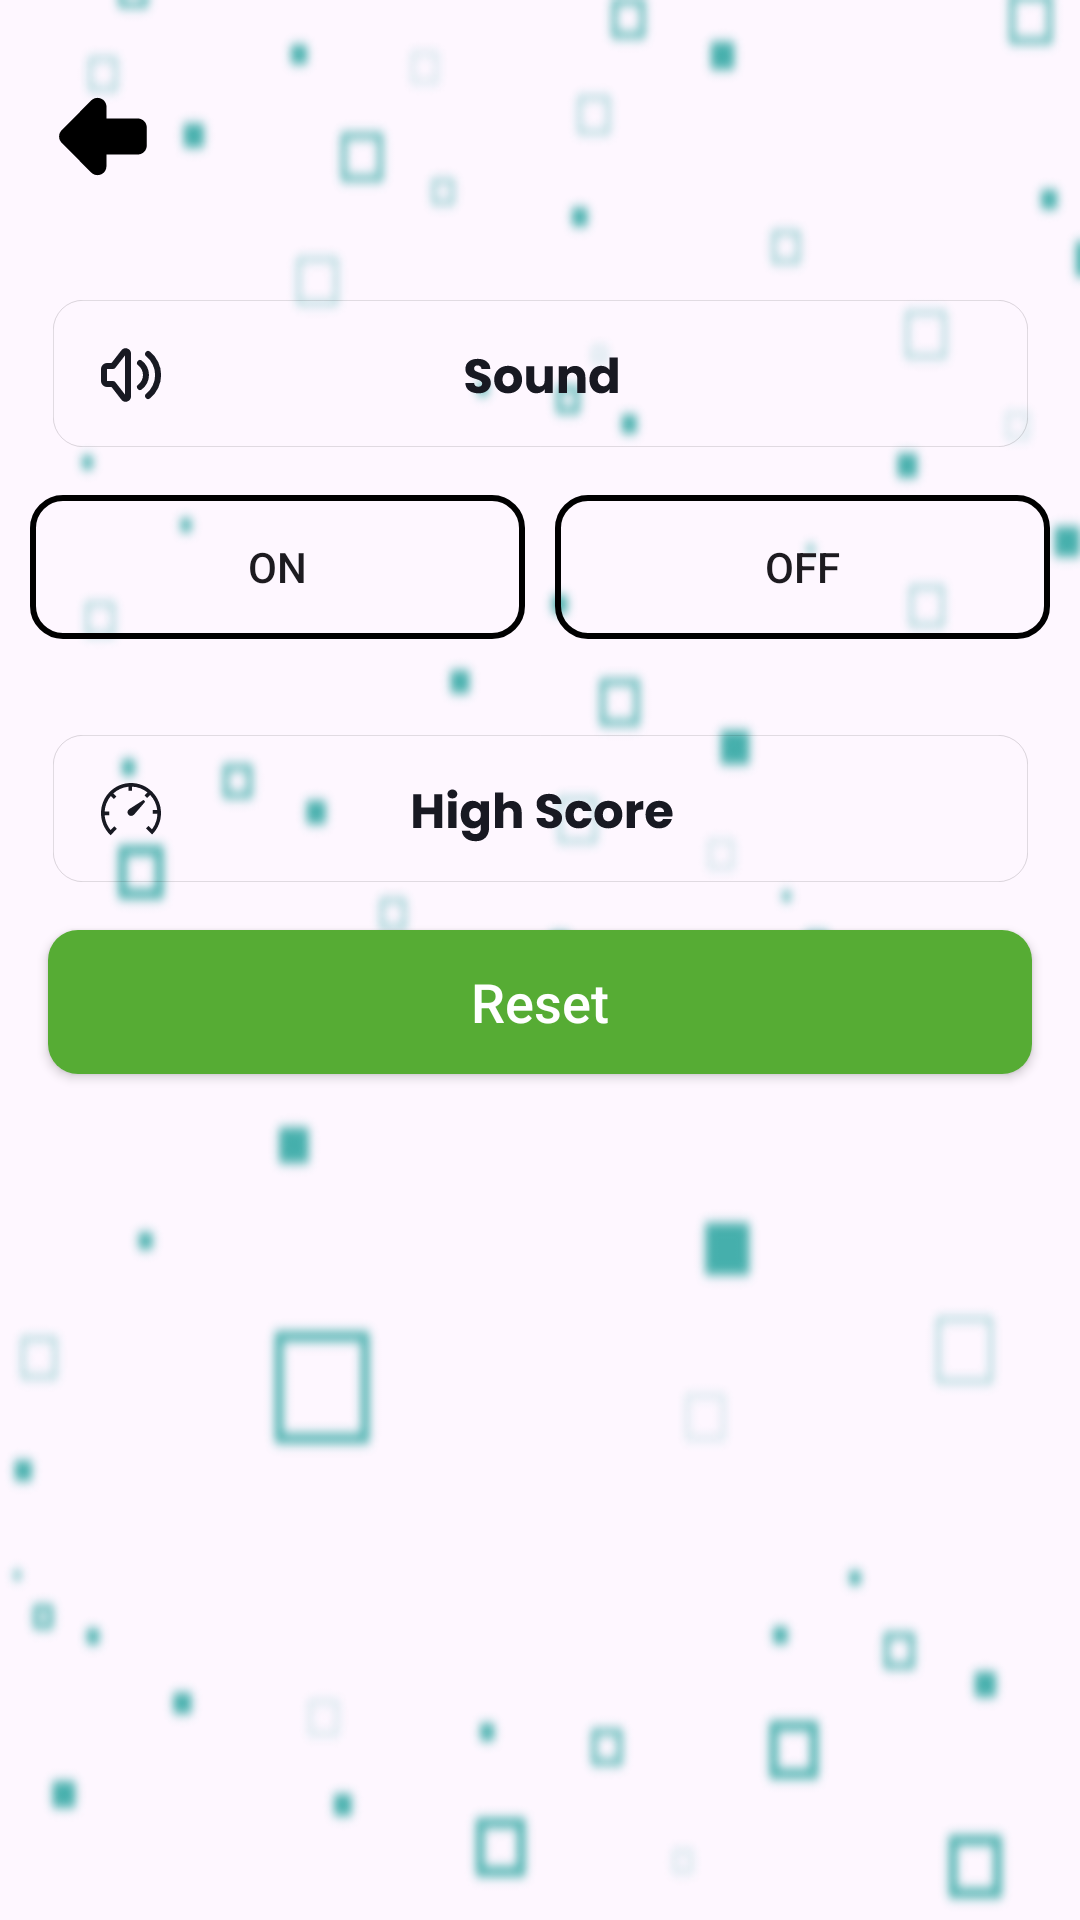

Where icons sit on this 1080x1920 app screen, as (x1, y1, x2, y2):
back: (59, 97, 147, 176)
